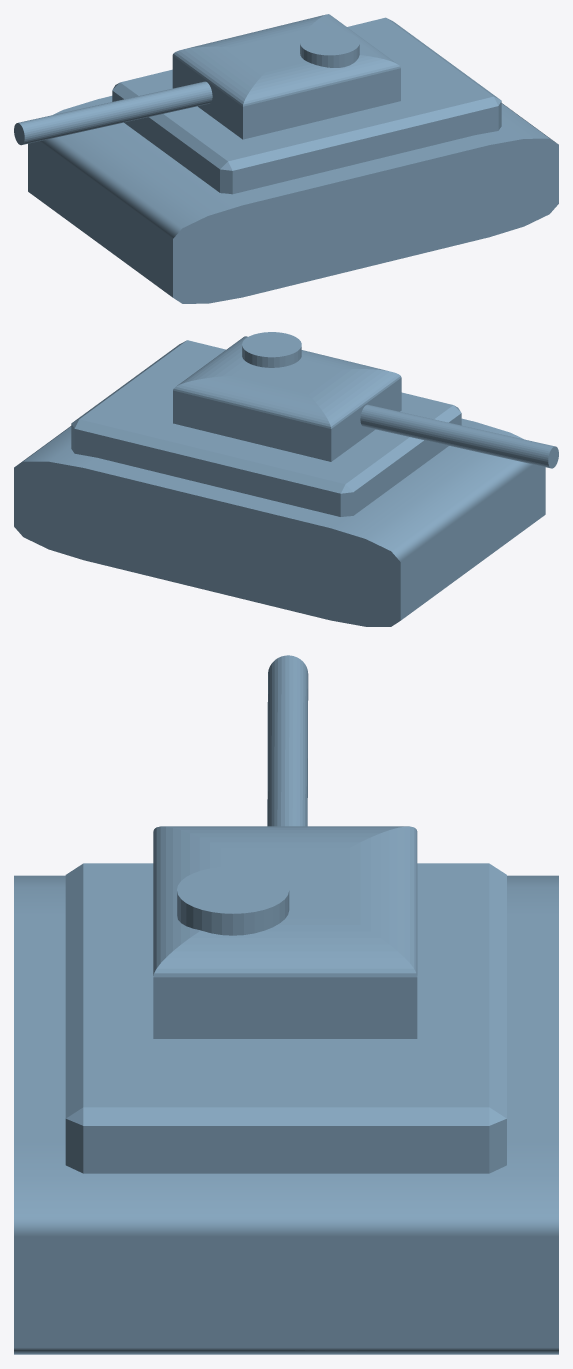
File: tank.fbx
3 views of the same model, one above another, from view 1: azimuth 30°, elevation 25°; view 2: azimuth 150°, elevation 25°; view 3: azimuth 270°, elevation 25° (orthographic). The views are drawn at different scales.
Visible parts, largest first — view 1: Cube.001, Cube, Cube.002, Cube.003, Cylinder.001; view 2: Cube.001, Cube, Cube.002, Cube.003, Cylinder.001; view 3: Cube.001, Cube, Cube.002, Cube.003, Cylinder.001.
Boxes of the visible parts, x1,y1,x2,y2 form: Cube.001: (28,96,558,303); Cube: (112,17,501,194); Cube.002: (172,14,400,139); Cube.003: (14,81,212,145); Cylinder.001: (300,30,359,67); Cube.001: (14,418,545,626); Cube: (71,340,461,516); Cube.002: (173,336,401,461); Cube.003: (360,404,558,468); Cylinder.001: (242,332,301,367); Cube.001: (14,875,558,1354); Cube: (65,863,506,1173); Cube.002: (153,826,417,1038); Cube.003: (267,655,308,826); Cylinder.001: (177,866,289,935).
Bounding box in the file's own units: 1803 × 651 × 970.
